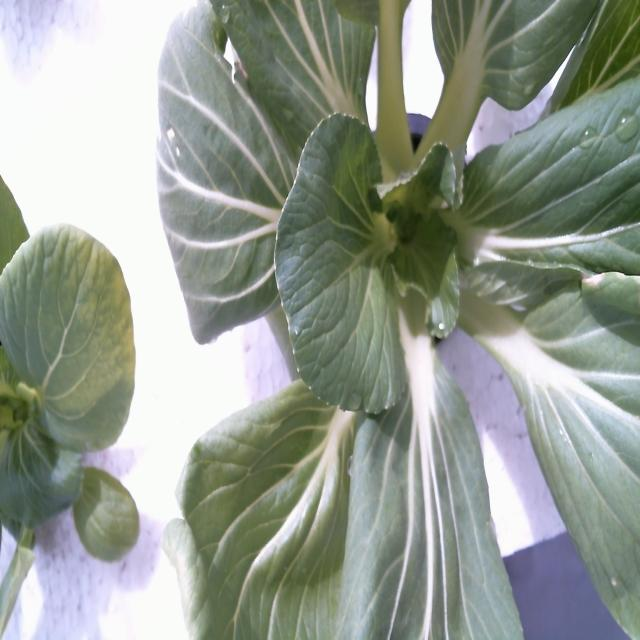pakcoy_tidak_sehat: (153, 0, 640, 640)
